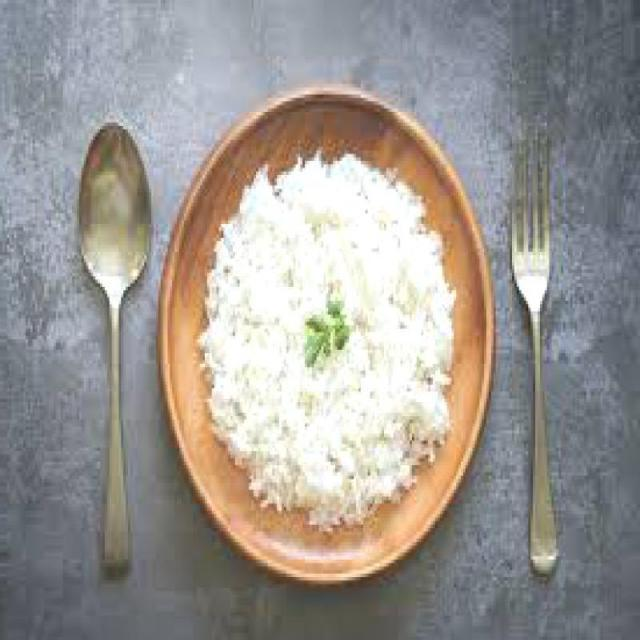Spinach: (111, 103, 308, 384), (387, 0, 640, 154), (557, 498, 640, 640), (554, 189, 640, 292)
